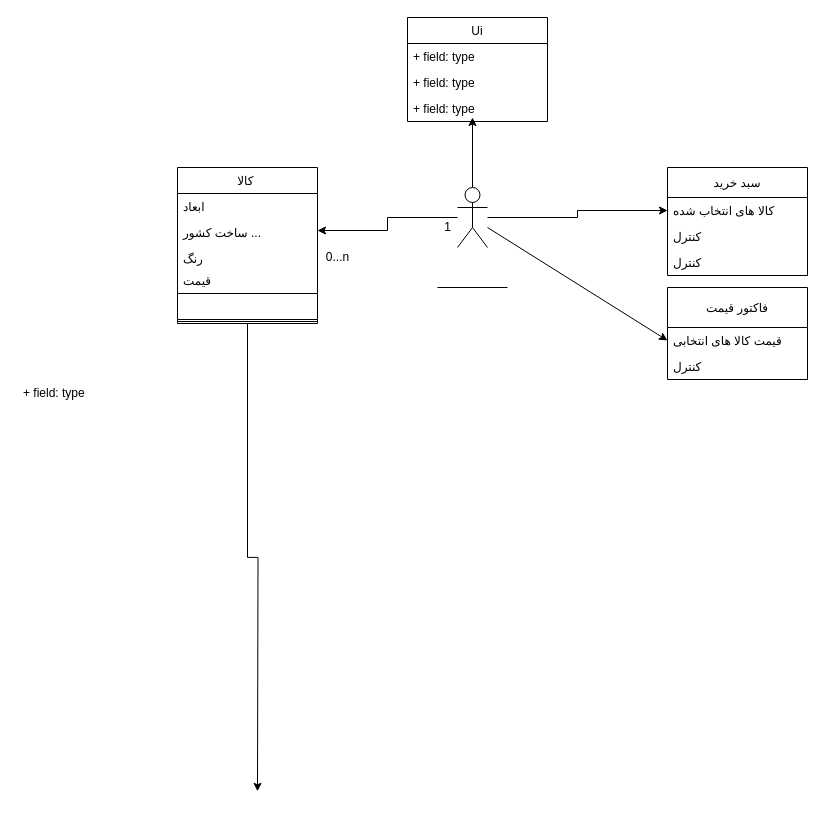
Some shapes in this 825 by 817 pixel diagram are drawn without their labels. Here are the shapes that lost their labels. From the top down, the centre of each, then its label:
point 472,217: مشتری
point 247,308: انتخاب
